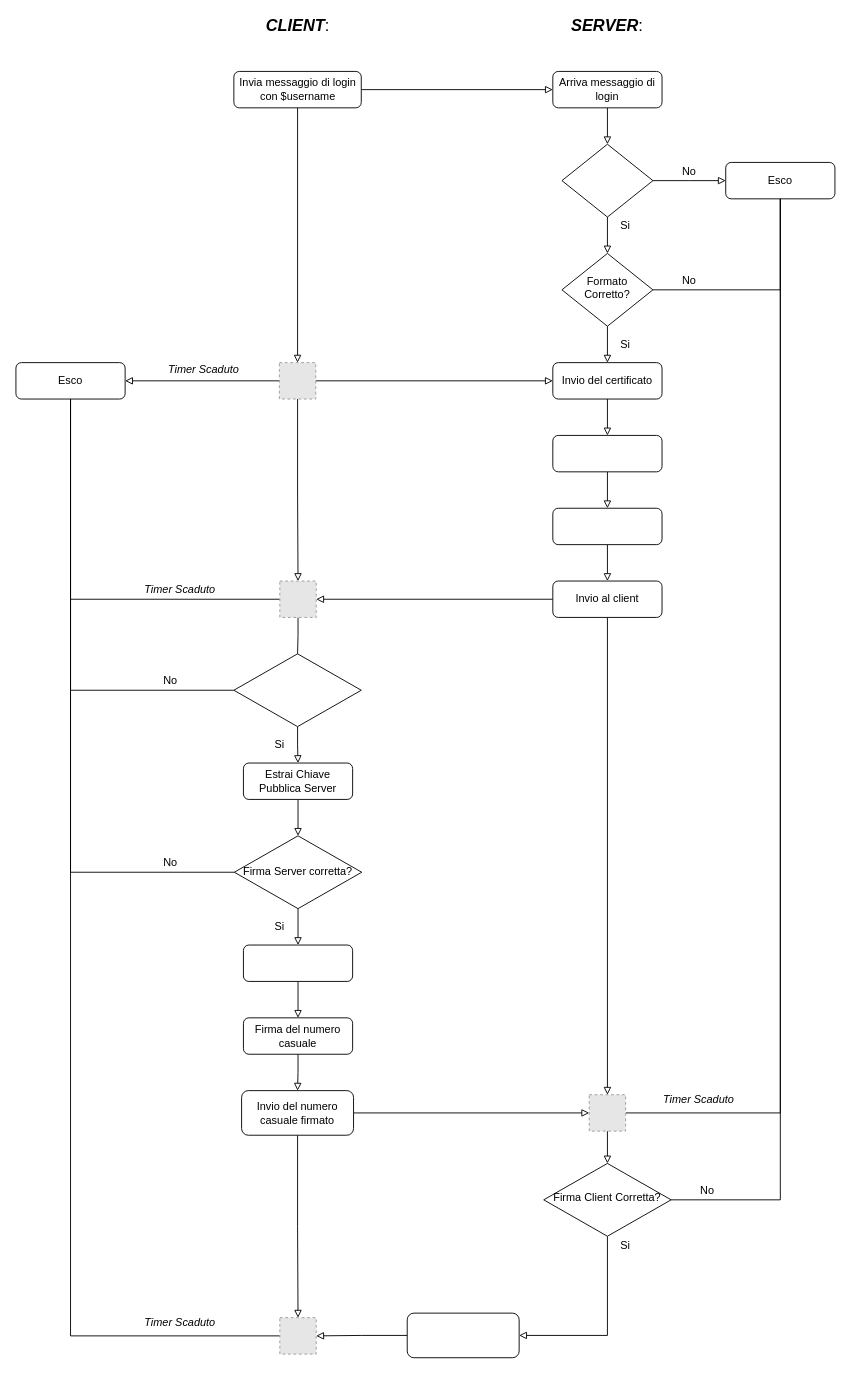
This 851x1373 diagram has some shape labels left out. Grey dashed boxes stand in for pictures. The shapes that lost their labels are listed below. From the top down, each one's centre as x and y in pixels, then its label:
At pixel 607 180: "Chiave pubblica?".
At pixel 607 453: "Genero un numero casuale su 16 byte".
At pixel 607 526: "Firmo il numero con la prv_key".
At pixel 297 690: "Certificato Corretto?".
At pixel 298 962: "Estrazione del numero casuale".
At pixel 462 1335: "Diffie-Hellman".
